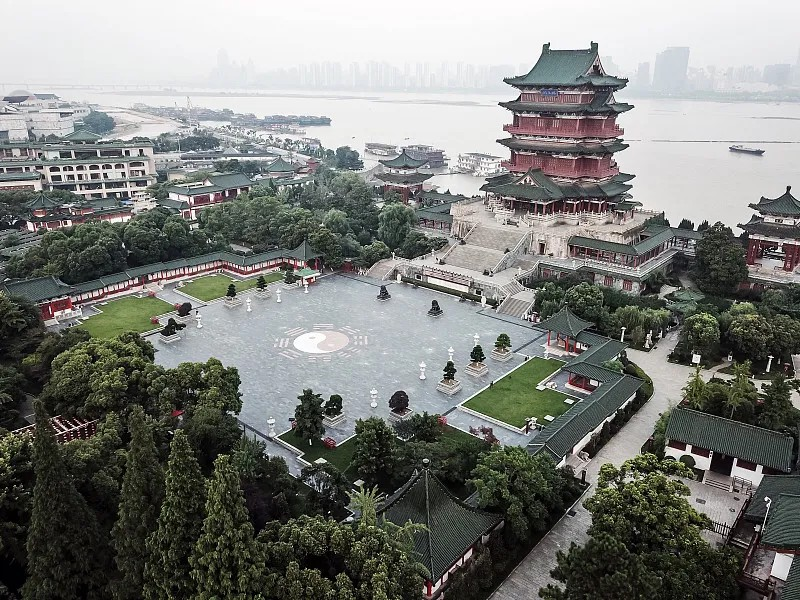Teng: (481, 41, 644, 219)
